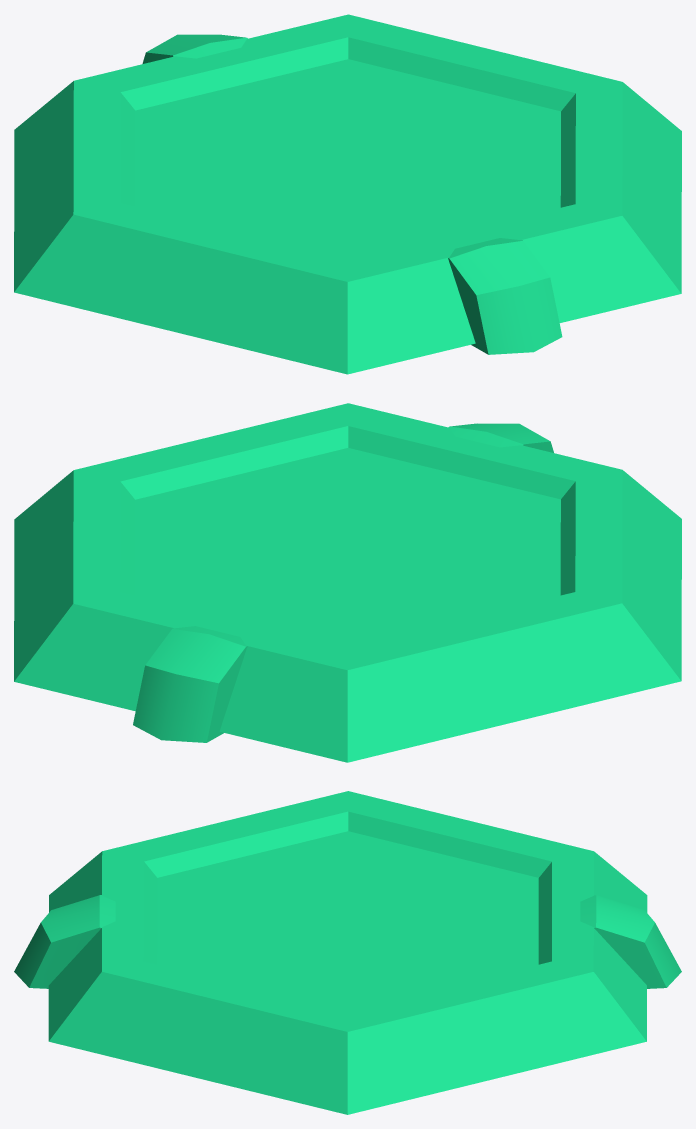
Rendered from JumpPad_mesh.fbx.
3 views of the same model, one above another, from view 1: azimuth 30°, elevation 25°; view 2: azimuth 150°, elevation 25°; view 3: azimuth 270°, elevation 25° (orthographic). The views are drawn at different scales.
Visible parts, largest first — view 1: JumpPad_mesh; view 2: JumpPad_mesh; view 3: JumpPad_mesh.
Part boxes in pixels (box(x1,y1,x2,y2)): JumpPad_mesh: box(14, 14, 681, 374); JumpPad_mesh: box(14, 403, 681, 762); JumpPad_mesh: box(14, 791, 681, 1114).
Size of the model in its own units: 428 by 43.72 by 414.
